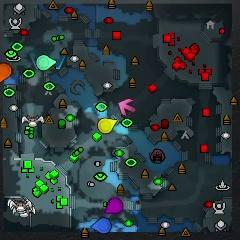p1: (91, 217, 112, 233)
p2: (37, 55, 57, 71)
p3: (105, 198, 123, 214)
p4: (98, 119, 118, 134)
p5: (0, 63, 12, 82)
x1: (119, 99, 136, 116)
